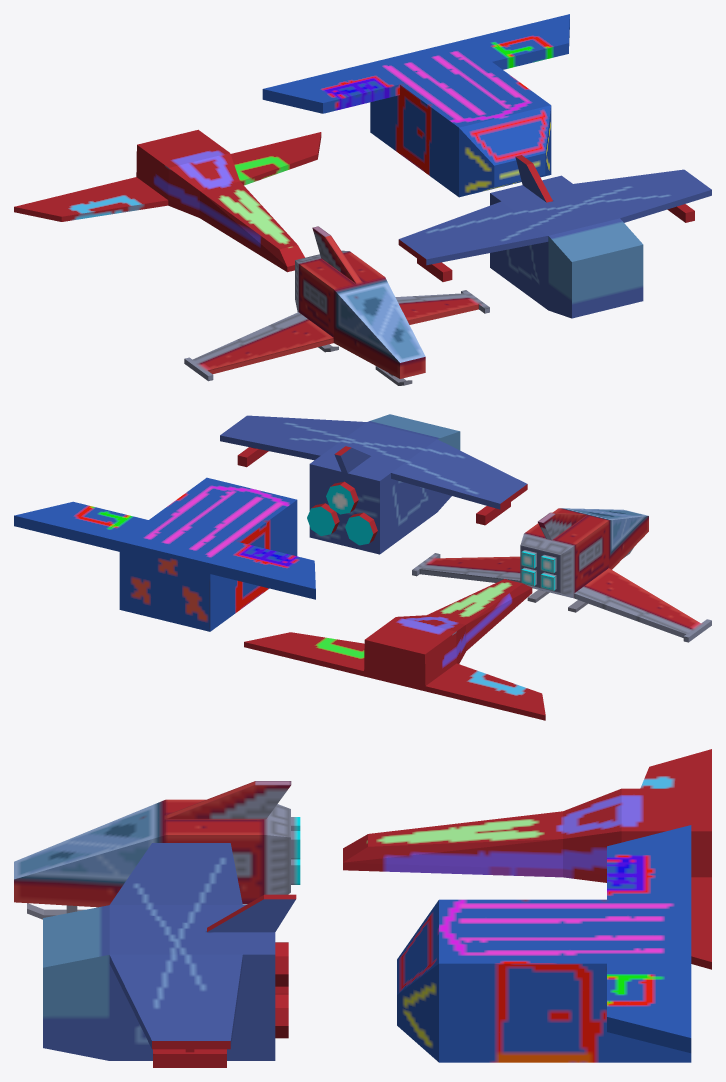
Rendered from ships.fbx.
3 renders of one model, top to bottom at view 1: azimuth 30°, elevation 25°; view 2: azimuth 150°, elevation 25°; view 3: azimuth 270°, elevation 25°, orthographic. The views are drawn at different scales.
Visible parts, largest first — view 1: ProtoBig, ShipBig, ShipSmall, ProtoSmall; view 2: ProtoBig, ShipBig, ProtoSmall, ShipSmall; view 3: ProtoBig, ShipBig, ProtoSmall, ShipSmall.
Boxes of the visible parts, bbox=[...] form: ProtoBig: bbox=[262, 14, 569, 197]; ShipBig: bbox=[398, 155, 711, 318]; ShipSmall: bbox=[184, 226, 489, 381]; ProtoSmall: bbox=[14, 129, 321, 272]; ProtoBig: bbox=[14, 477, 315, 631]; ShipBig: bbox=[220, 414, 527, 554]; ProtoSmall: bbox=[244, 579, 545, 720]; ShipSmall: bbox=[412, 508, 711, 642]; ProtoBig: bbox=[397, 825, 691, 1062]; ShipBig: bbox=[43, 843, 296, 1067]; ProtoSmall: bbox=[343, 749, 711, 969]; ShipSmall: bbox=[14, 781, 300, 907].
Size of the model in its own units: 1071 by 215 by 830.
